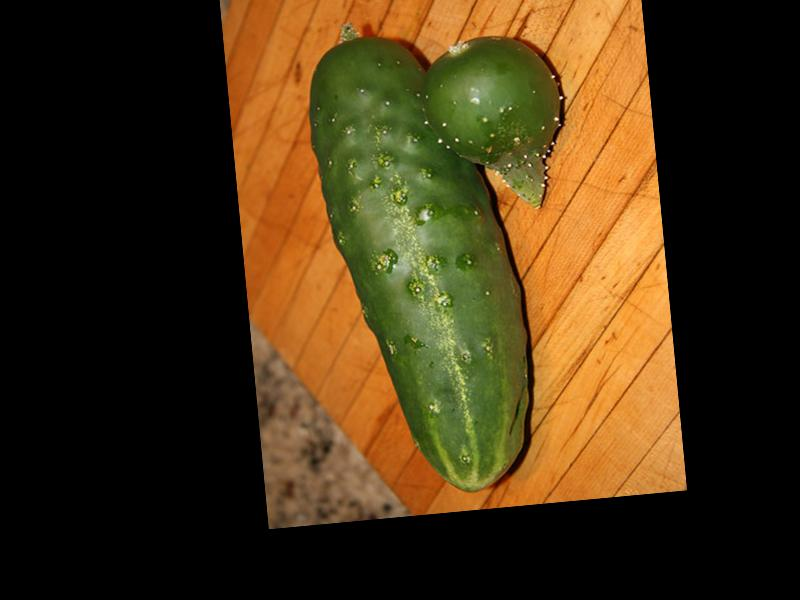Cucumber: (302, 23, 542, 504)
